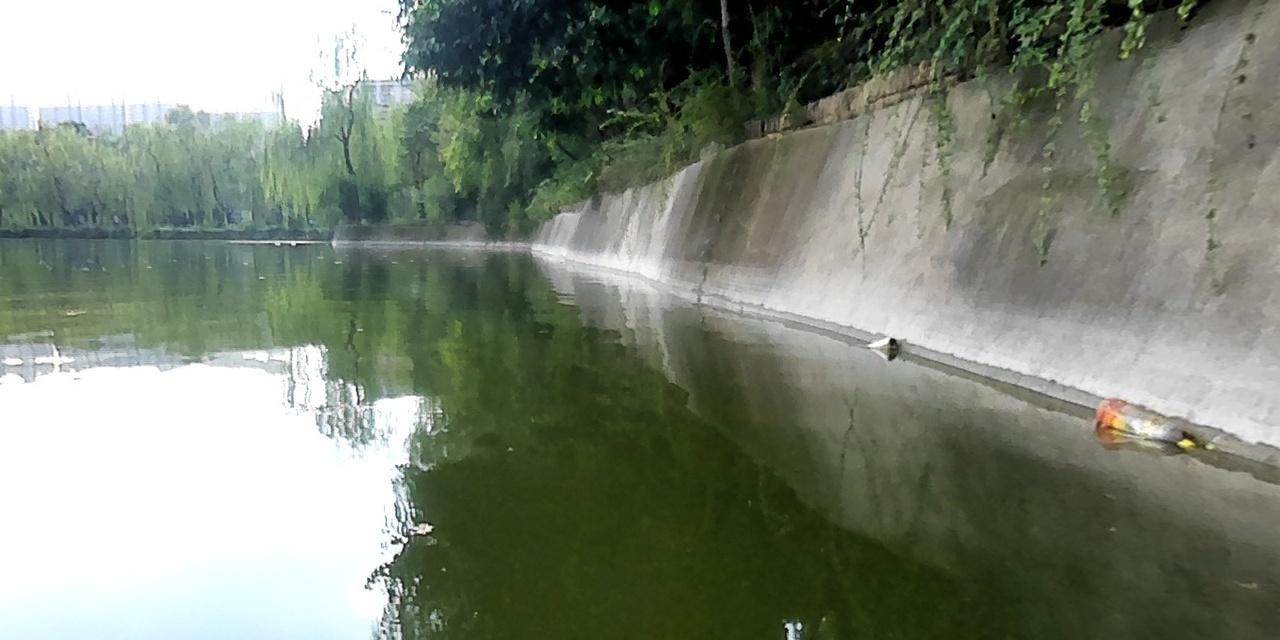bottle: (1088, 393, 1199, 457)
